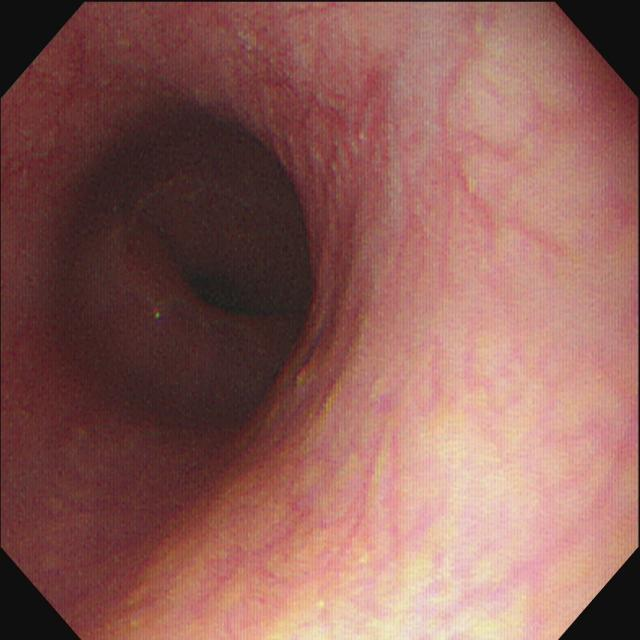E: (164, 224, 291, 344)
